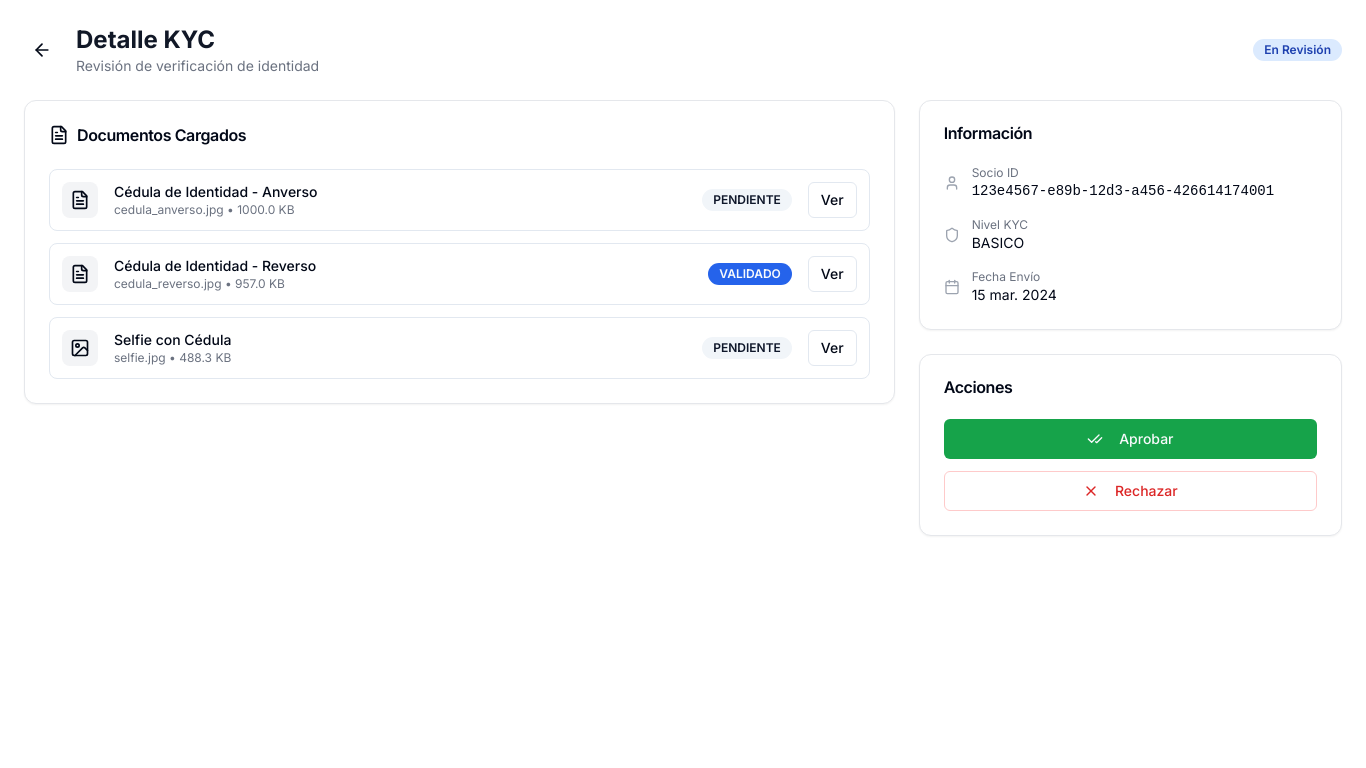
AdminKYCDetallePagina - Flujo Completo › 4. Flujo de Aprobación › debe abrir diálogo al hacer click en Aprobar
The width and height of the screenshot is (1366, 768).
Click the button "Aprobar".
click(1130, 439)  # box [944,419,1317,459]
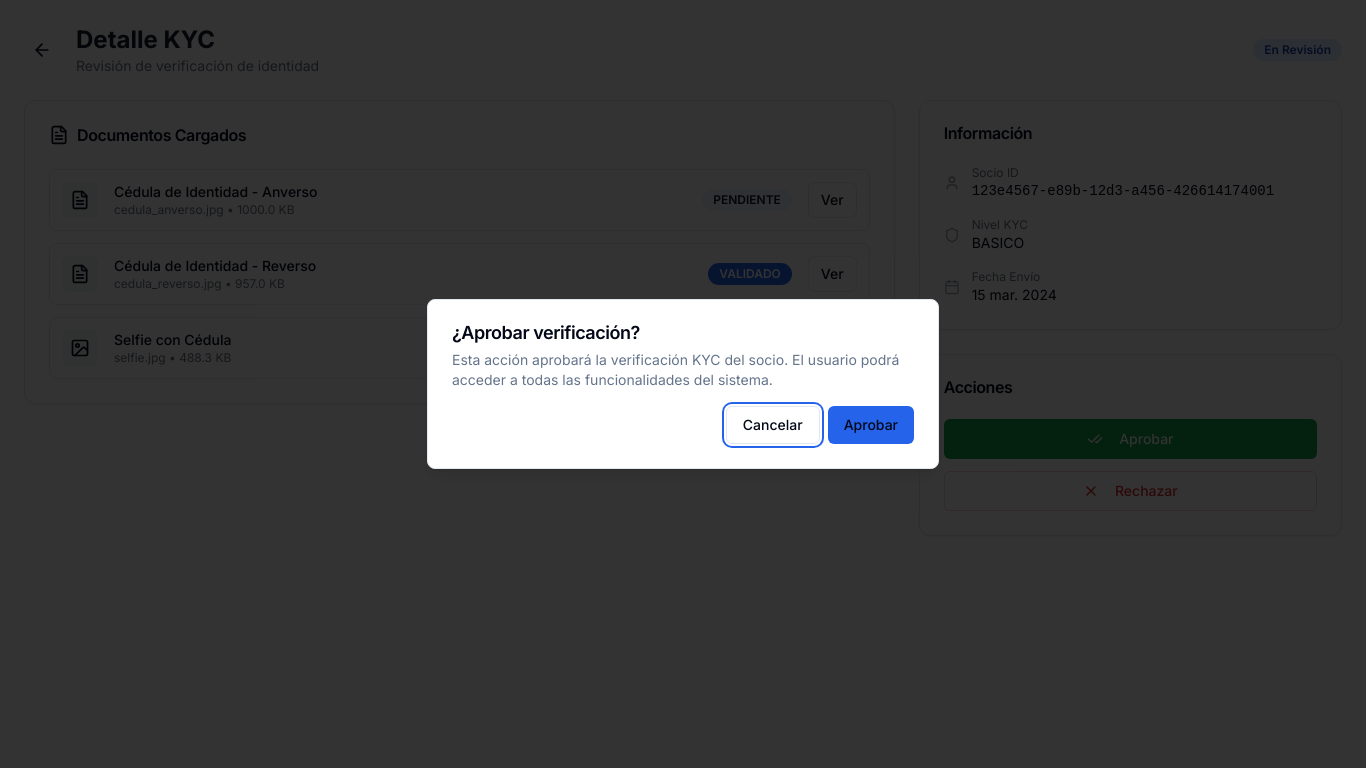
Check: the heading "¿Aprobar verificación?" is shown, box [452,322,640,343]
